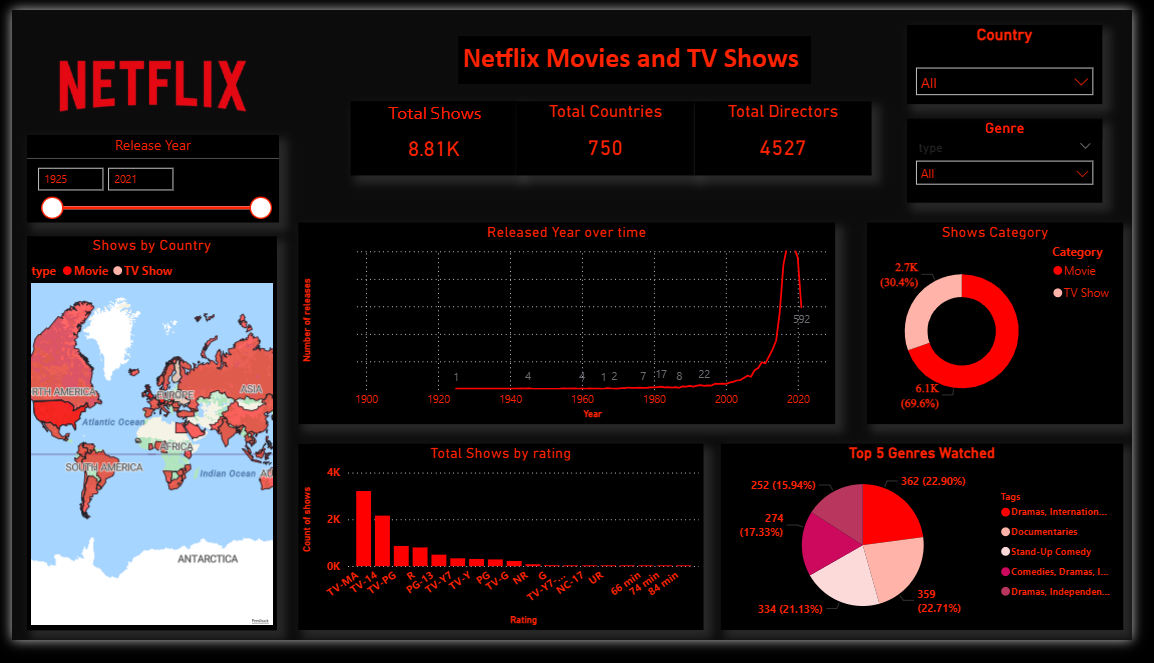

The page's visual inventory and layout, read from the dashboard file:
{"tool":"powerbi","page":{"name":"Page 1","canvas":[1280,720],"ordinal":0},"visuals":[{"type":"image","box":[26.7,25.6,260,116.7],"z":0},{"type":"textbox","box":[510,30,402.9,54.3],"z":1000},{"type":"advanceCardE03760C5AB684758B56AA29F9E6C257B","title":"Total Shows","fields":{"mainMeasure":["Measure.Total Shows"]},"box":[386.7,104.4,191.1,84.4],"z":2000},{"type":"advanceCardE03760C5AB684758B56AA29F9E6C257B","title":"Total Countries","fields":{"mainMeasure":["Measure.Total Countries"]},"box":[576.7,104.4,202.2,84.4],"z":3000},{"type":"shape","box":[16.7,143.3,286.7,76.7],"z":4000},{"type":"slicer","title":"Release Year","fields":{"Values":["netflix_titles_cleaned.release_year"]},"box":[16.7,142.2,287.8,100],"z":5000},{"type":"donutChart","title":"Shows Category","fields":{"Category":["netflix_titles_cleaned.type"],"Y":["CountNonNull(netflix_titles_cleaned.show_id)"]},"box":[977.1,242.9,292.9,230],"z":6000},{"type":"lineChart","title":"Released Year over time","fields":{"Category":["netflix_titles_cleaned.release_year"],"Y":["Measure.Total Shows"]},"box":[327.5,242.5,613.8,230],"z":7000},{"type":"azureMap","title":"Shows by Country","fields":{"Category":["netflix_titles_cleaned.country"],"Series":["netflix_titles_cleaned.type"]},"box":[17.1,258.6,285.7,450],"z":8000},{"type":"columnChart","fields":{"Category":["netflix_titles_cleaned.rating"],"Y":["Measure.Total Shows"]},"box":[327.1,495.7,462.9,212.9],"z":9000},{"type":"pieChart","title":"Top 5 Genres Watched","fields":{"Category":["netflix_titles_cleaned.listed_in"],"Y":["Measure.Total Shows"]},"box":[810,495.7,460,212.9],"z":10000},{"type":"slicer","title":"Genre","fields":{"Values":["netflix_titles_cleaned.type"]},"box":[1022.9,124.3,222.9,95.7],"z":11000},{"type":"slicer","title":"Country","fields":{"Values":["netflix_titles_cleaned.country"]},"box":[1022.3,17.7,222.9,90],"z":12000},{"type":"advanceCardE03760C5AB684758B56AA29F9E6C257B","title":"Total Directors","fields":{"mainMeasure":["Measure.Total Directors"]},"box":[780,104.4,202.2,84.4],"z":13000}]}

Visuals, with their boxes in screenshot pixels (x1, y1, x2, y2), scaled from the page's 1280x720 canvas onto the 1154x663 screenshot:
image: [left=24, top=24, right=258, bottom=131]
textbox: [left=460, top=28, right=823, bottom=78]
"Total Shows" advanceCardE03760C5AB684758B56AA29F9E6C257B: [left=349, top=96, right=521, bottom=174]
"Total Countries" advanceCardE03760C5AB684758B56AA29F9E6C257B: [left=520, top=96, right=702, bottom=174]
shape: [left=15, top=132, right=274, bottom=203]
"Release Year" slicer: [left=15, top=131, right=275, bottom=223]
"Shows Category" donutChart: [left=881, top=224, right=1145, bottom=435]
"Released Year over time" lineChart: [left=295, top=223, right=849, bottom=435]
"Shows by Country" azureMap: [left=15, top=238, right=273, bottom=653]
columnChart - netflix_titles_cleaned.rating x Measure.Total Shows: [left=295, top=456, right=712, bottom=653]
"Top 5 Genres Watched" pieChart: [left=730, top=456, right=1145, bottom=653]
"Genre" slicer: [left=922, top=114, right=1123, bottom=203]
"Country" slicer: [left=922, top=16, right=1123, bottom=99]
"Total Directors" advanceCardE03760C5AB684758B56AA29F9E6C257B: [left=703, top=96, right=886, bottom=174]
